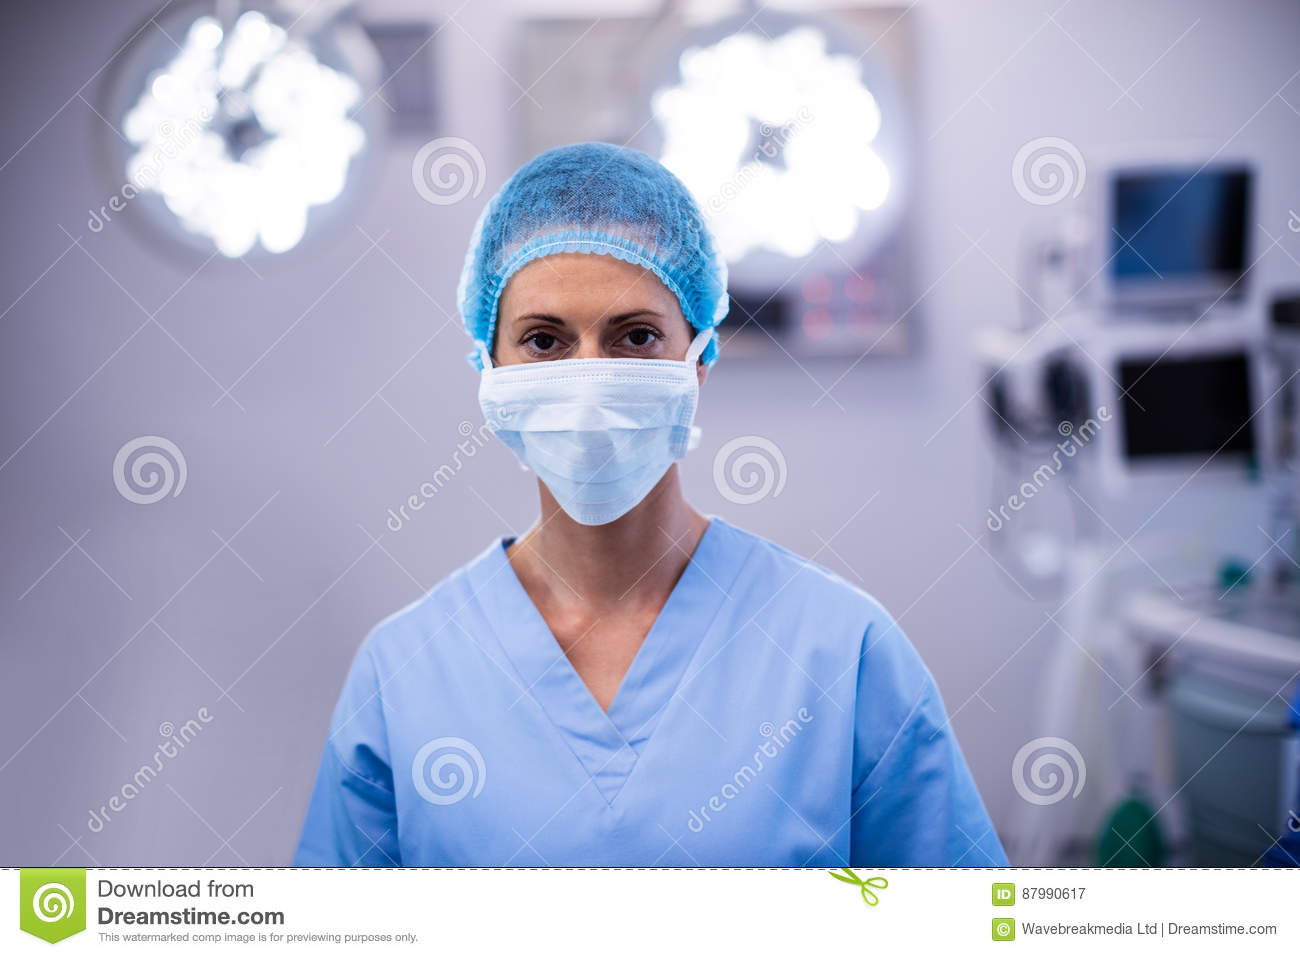mask: (483, 369, 705, 514)
